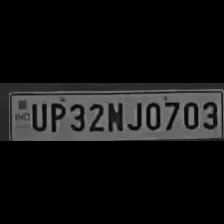0: (142, 99, 160, 131), (180, 99, 198, 130)
2: (86, 100, 104, 132)
3: (66, 100, 86, 132), (200, 98, 218, 130)
7: (162, 98, 178, 132)
J: (124, 99, 142, 131)
N: (104, 100, 124, 132)
P: (48, 99, 64, 133)
U: (28, 100, 46, 132)
